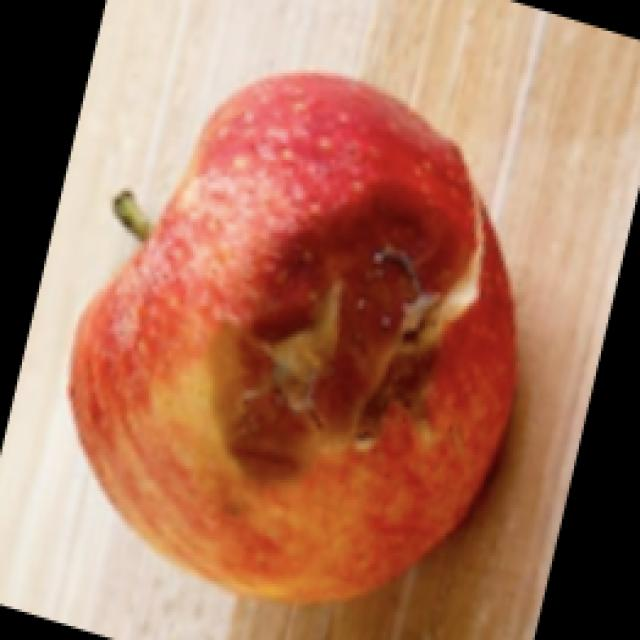Rotten: (67, 66, 526, 606)
